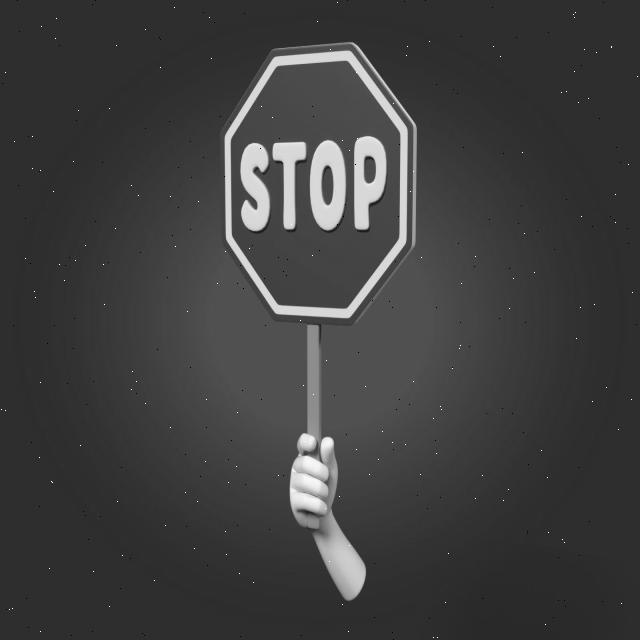Stop-sign: (196, 6, 447, 354)
